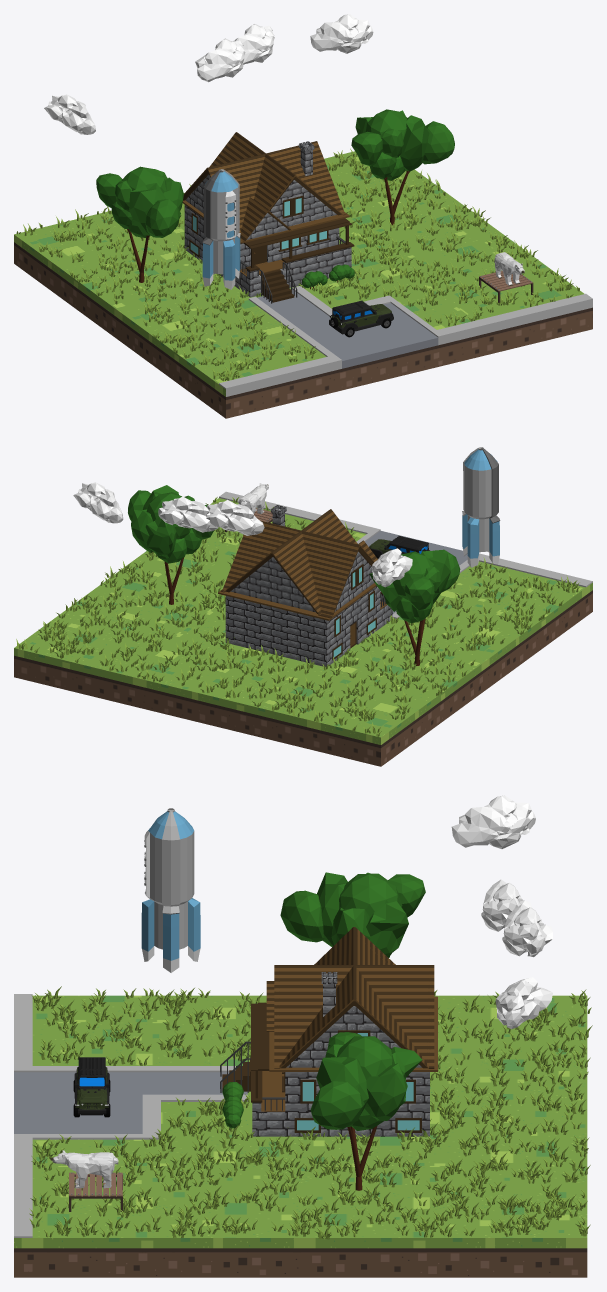
3 renders of one model, top to bottom at view 1: azimuth 30°, elevation 25°; view 2: azimuth 150°, elevation 25°; view 3: azimuth 270°, elevation 25°, orthographic. The views are drawn at different scales.
Visible parts, largest first — view 1: Cube.006, Circle.012_Grass_0.192, Cube.586, Cube.007, tree, tree.001, OBJRANDOM_ROCKETSHIP, VEHICLES_JEEP, ANIMAL_OSO_POLAR, Cube.009; view 2: Cube.006, Cube.586, Circle.012_Grass_0.192, Cube.007, OBJRANDOM_ROCKETSHIP, tree.001, tree, VEHICLES_JEEP, ANIMAL_OSO_POLAR; view 3: Cube.006, Circle.012_Grass_0.192, Cube.586, tree, Cube.007, tree.001, OBJRANDOM_ROCKETSHIP, VEHICLES_JEEP, ANIMAL_OSO_POLAR, Cube.009.
Boxes of the visible parts, x1=… form: Cube.006: x1=14, y1=151, x2=592, y2=418; Circle.012_Grass_0.192: x1=16, y1=148, x2=579, y2=381; Cube.586: x1=182, y1=132, x2=354, y2=303; Cube.007: x1=44, y1=14, x2=373, y2=134; tree: x1=351, y1=109, x2=454, y2=225; tree.001: x1=96, y1=166, x2=183, y2=282; OBJRANDOM_ROCKETSHIP: x1=202, y1=169, x2=240, y2=289; VEHICLES_JEEP: x1=329, y1=300, x2=393, y2=337; ANIMAL_OSO_POLAR: x1=494, y1=252, x2=524, y2=285; Cube.009: x1=479, y1=270, x2=533, y2=302; Cube.006: x1=14, y1=491, x2=592, y2=766; Cube.586: x1=218, y1=505, x2=392, y2=666; Circle.012_Grass_0.192: x1=16, y1=497, x2=579, y2=736; Cube.007: x1=73, y1=482, x2=412, y2=587; OBJRANDOM_ROCKETSHIP: x1=462, y1=447, x2=500, y2=567; tree.001: x1=369, y1=549, x2=460, y2=665; tree: x1=128, y1=485, x2=213, y2=604; VEHICLES_JEEP: x1=369, y1=535, x2=429, y2=558; ANIMAL_OSO_POLAR: x1=238, y1=483, x2=268, y2=513; Cube.006: x1=14, y1=994, x2=587, y2=1277; Circle.012_Grass_0.192: x1=29, y1=986, x2=592, y2=1239; Cube.586: x1=220, y1=927, x2=437, y2=1136; tree: x1=310, y1=1032, x2=422, y2=1190; Cube.007: x1=451, y1=795, x2=552, y2=1029; tree.001: x1=280, y1=872, x2=425, y2=957; OBJRANDOM_ROCKETSHIP: x1=141, y1=808, x2=200, y2=972; VEHICLES_JEEP: x1=73, y1=1057, x2=110, y2=1117; ANIMAL_OSO_POLAR: x1=50, y1=1150, x2=118, y2=1188; Cube.009: x1=69, y1=1172, x2=122, y2=1211.
Bounding box in the file's own units: 4071 × 2176 × 4040.
Materials: 37 (4 with a texture image).
